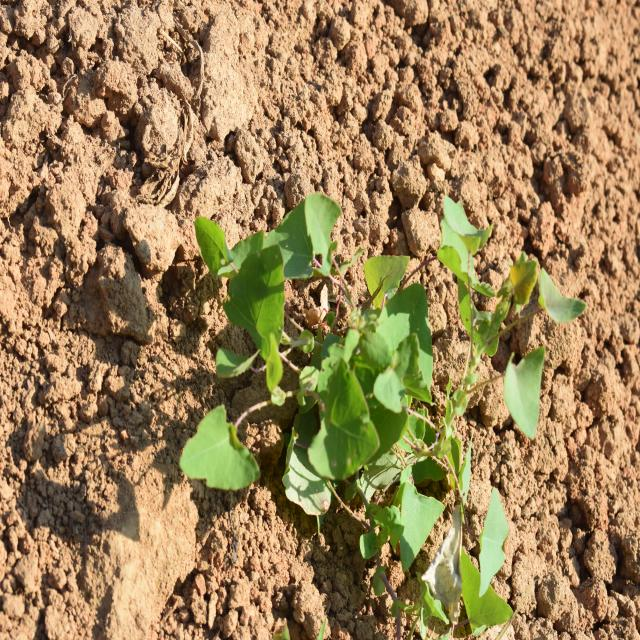Asiatic_Smartweed: (201, 183, 426, 485), (409, 192, 578, 438)
